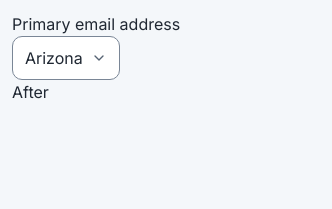
Select F5-1: unlisted stored value › shows the stored value's label, never offers it, and another value can be chosen
Press Enter in the dropdown named "Primary email address", box 12,36 -> 120,80
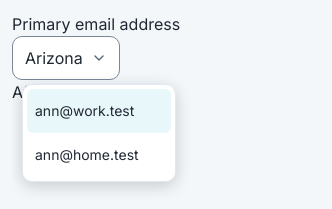
Expected: the list is shown, 22,84 -> 176,182
Expected: the options read "ann@work.test", "ann@home.test", in this order
Click the option "ann@home.test": (87, 154) 35,146 -> 139,163
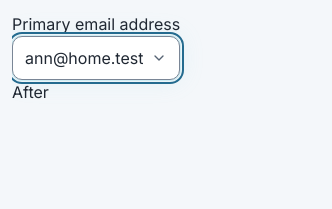
Expected: the list is gone
Expected: the dropdown named "Primary email address" reads "ann@home.test"
// Once changed, the stored value is not selectable again (hidden and disabled).
Press Enter in the dropdown named "Primary email address", box 12,36 -> 180,80
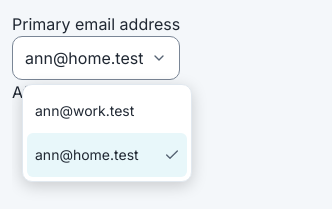
Expected: the list is shown, 22,84 -> 192,182
Expected: the number of options is 2, 35,102 -> 134,119; 27,133 -> 187,177
